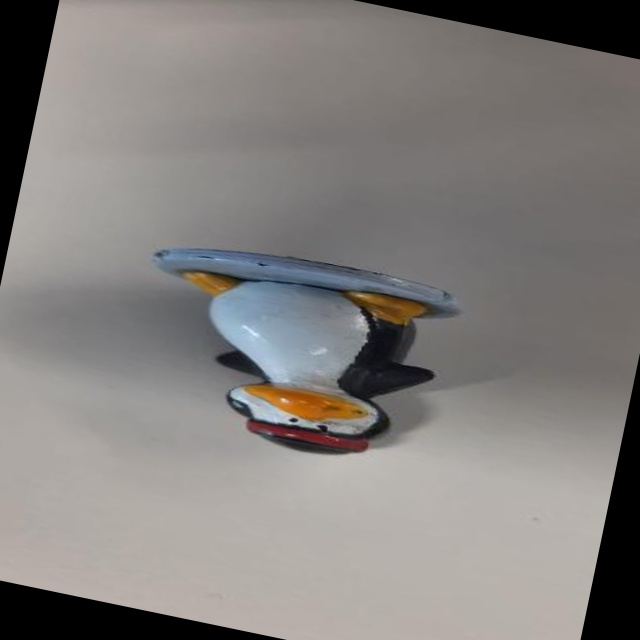Penguin: (115, 221, 474, 484)
